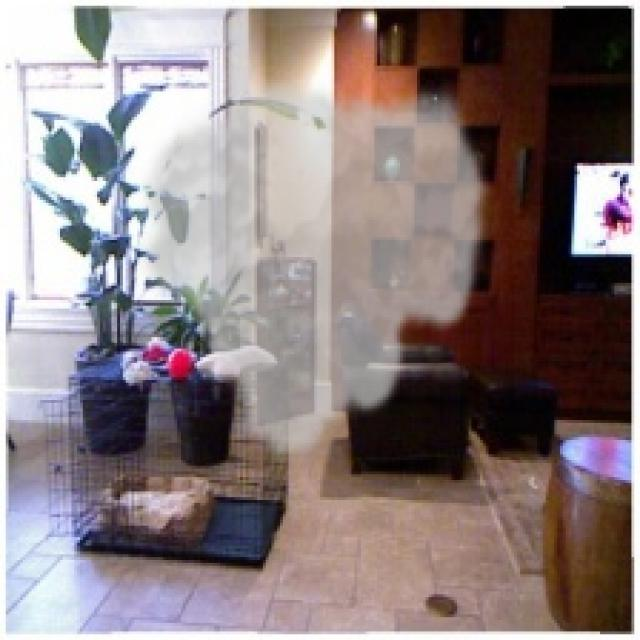smoke: (132, 74, 494, 469)
